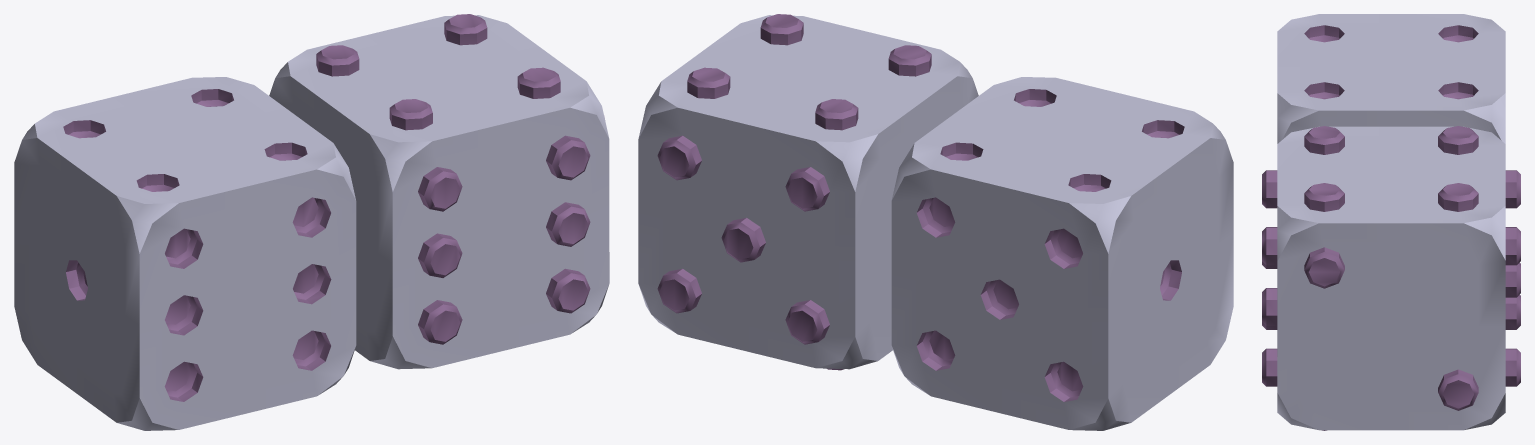
File: dicesV2.fbx
The picture shows the model from 3 angles, left to right: view 1: azimuth 30°, elevation 25°; view 2: azimuth 150°, elevation 25°; view 3: azimuth 270°, elevation 25°; orthographic projection. The views are drawn at different scales.
Visible parts, largest first — view 1: Dice1, Dice2; view 2: Dice1, Dice2; view 3: Dice2, Dice1.
Part boxes in pixels (box(x1,y1,x2,y2)): Dice1: box(14, 77, 356, 430); Dice2: box(269, 14, 609, 369); Dice1: box(891, 77, 1233, 430); Dice2: box(638, 14, 978, 370); Dice2: box(1262, 126, 1520, 430); Dice1: box(1277, 14, 1505, 143).
Size of the model in its own units: 6.02 by 3.05 by 3.05.
2 materials, 1 textured.
